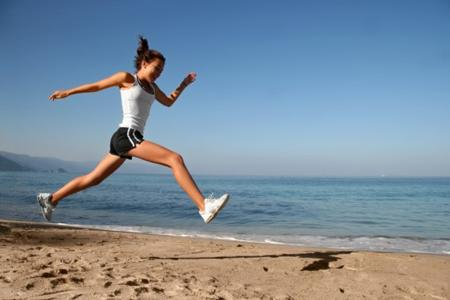person: (37, 43, 228, 223)
